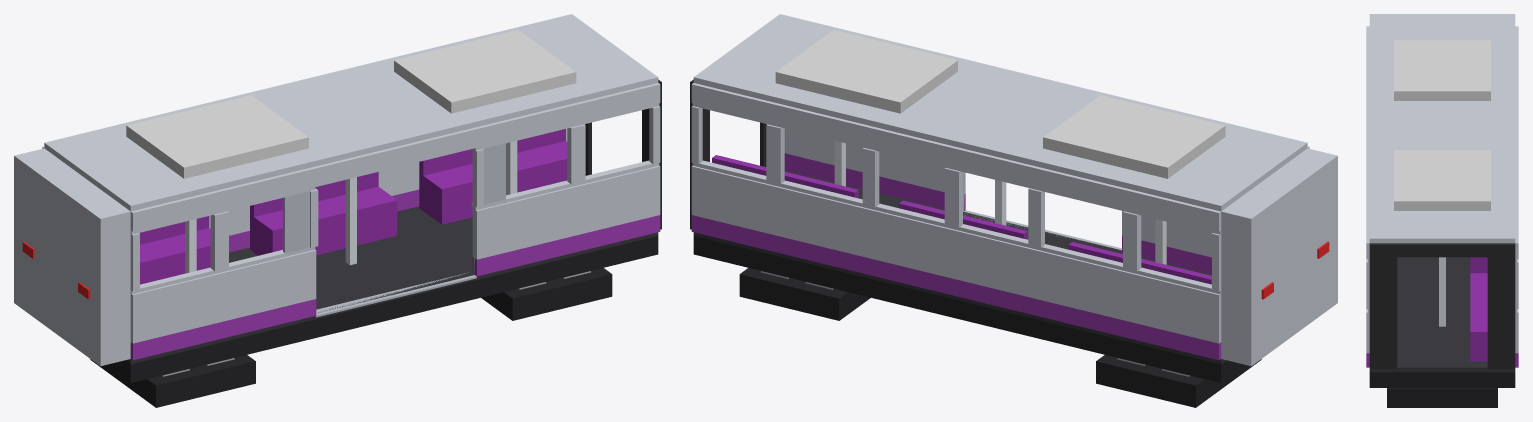
File: metro_wagon_rear_l5.obj
The picture shows the model from 3 angles, left to right: view 1: azimuth 30°, elevation 25°; view 2: azimuth 150°, elevation 25°; view 3: azimuth 270°, elevation 25°; orthographic projection. The views are drawn at different scales.
Size of the model in its own units: 3.16 by 1.26 by 0.88.
